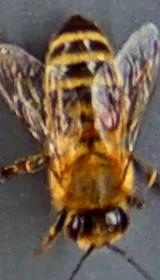varroa_mite: (90, 96, 120, 136)
